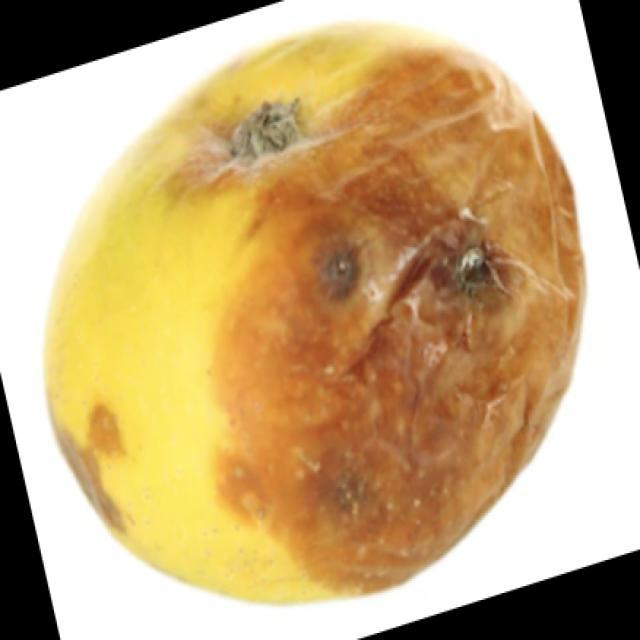Rotten: (71, 29, 572, 588)
